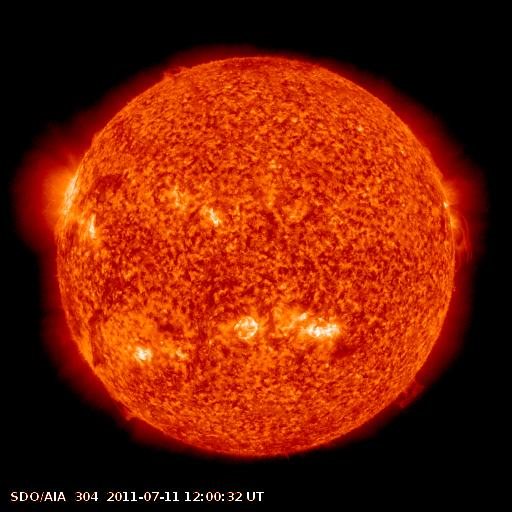prominence: (104, 388, 157, 432), (383, 370, 431, 416), (151, 56, 197, 91)
